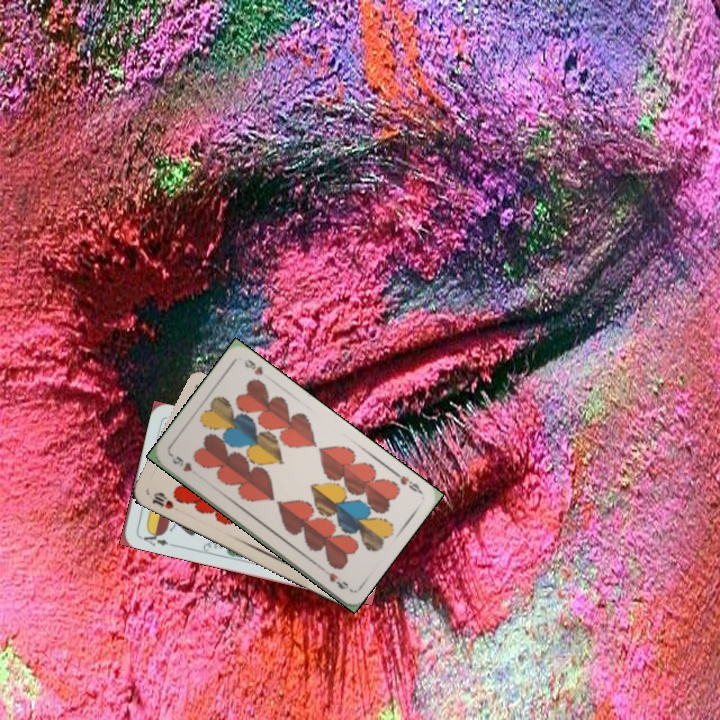EA: (136, 526, 171, 548)
H10: (148, 488, 176, 512)
H9: (389, 467, 425, 496), (166, 450, 195, 475)
